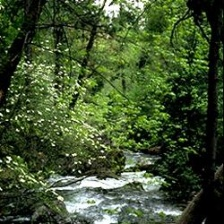neutral: (3, 3, 223, 223)
